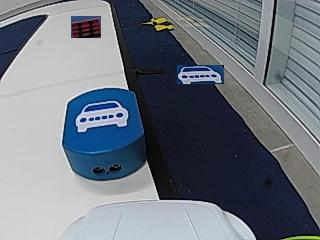safety: (75, 100, 131, 132)
